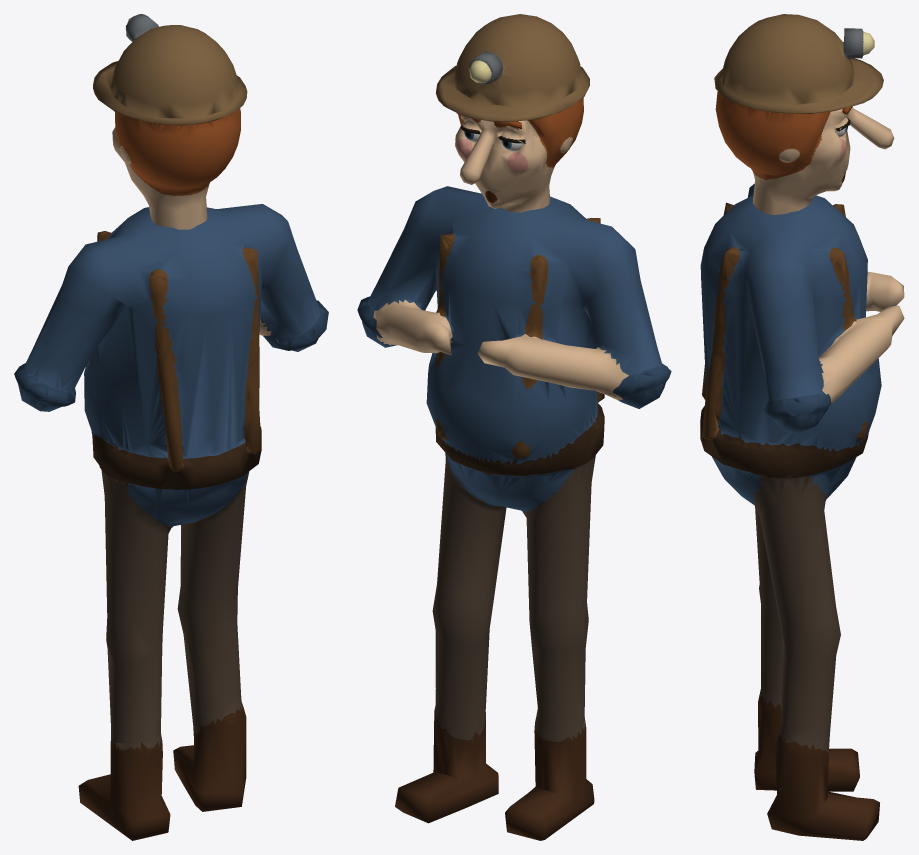
File: miner.glb
3 views of the same model, side by side, from view 1: azimuth 30°, elevation 25°; view 2: azimuth 150°, elevation 25°; view 3: azimuth 270°, elevation 25° (orthographic).
Parts seen in each view (by area): view 1: body_lod0, head_lod0; view 2: body_lod0, head_lod0; view 3: body_lod0, head_lod0.
Boxes of the visible parts, bbox=[...] form: body_lod0: bbox=[14, 204, 328, 840]; head_lod0: bbox=[93, 14, 247, 229]; body_lod0: bbox=[357, 186, 671, 840]; head_lod0: bbox=[436, 14, 589, 212]; body_lod0: bbox=[700, 184, 904, 840]; head_lod0: bbox=[714, 14, 894, 214].
Size of what is drawn, in the model's own units: 0.7869 by 1.96 by 0.4607.
